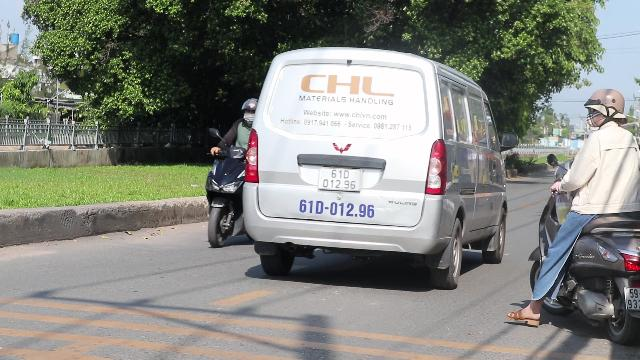helmet: (583, 87, 627, 129), (238, 99, 258, 124)
motorcyclist: (516, 83, 640, 348), (200, 97, 268, 248)
